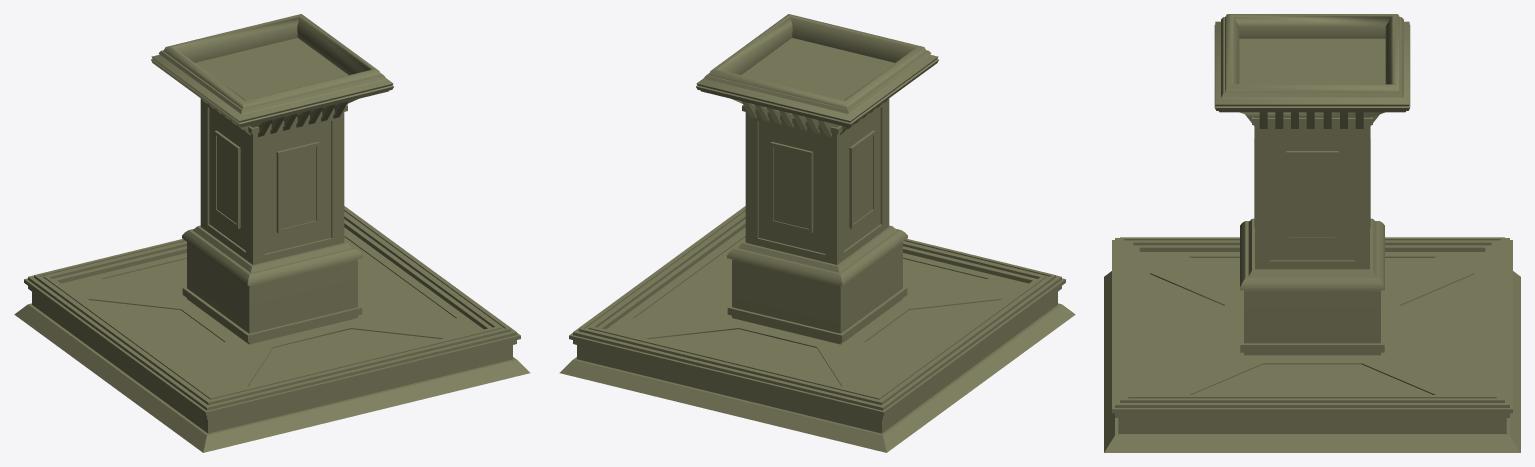
File: altar01.fbx
3 renders of one model, left to right at view 1: azimuth 30°, elevation 25°; view 2: azimuth 150°, elevation 25°; view 3: azimuth 270°, elevation 25°, orthographic. The views are drawn at different scales.
Parts seen in each view (by area): view 1: Altar01; view 2: Altar01; view 3: Altar01.
Boxes of the visible parts, left/top/right/bottom form: Altar01: left=14, top=14, right=530, bottom=452; Altar01: left=559, top=14, right=1075, bottom=452; Altar01: left=1104, top=14, right=1520, bottom=452.
Size of the model in its own units: 0.2015 by 0.168 by 0.2015.
